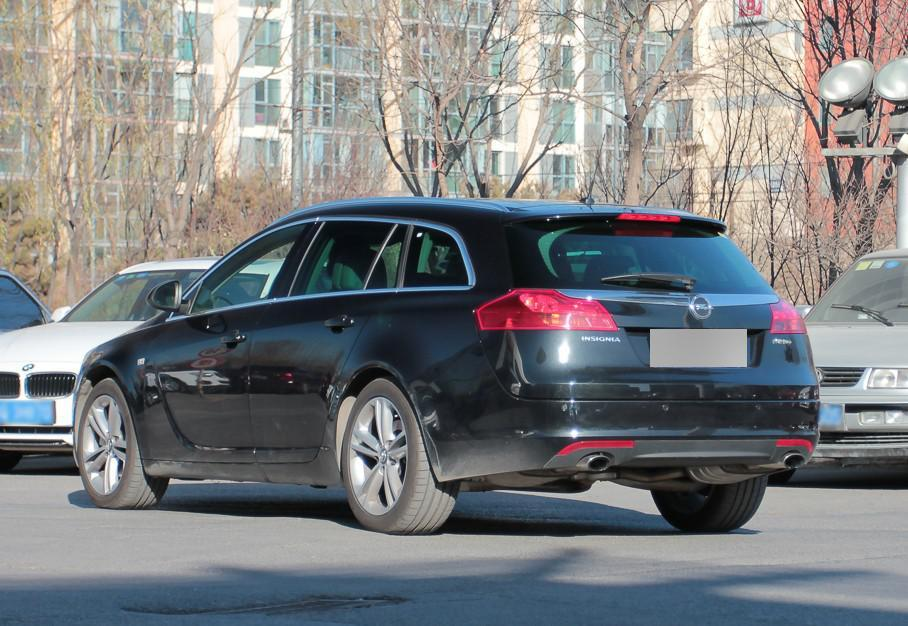Wagon: (72, 197, 820, 535)
